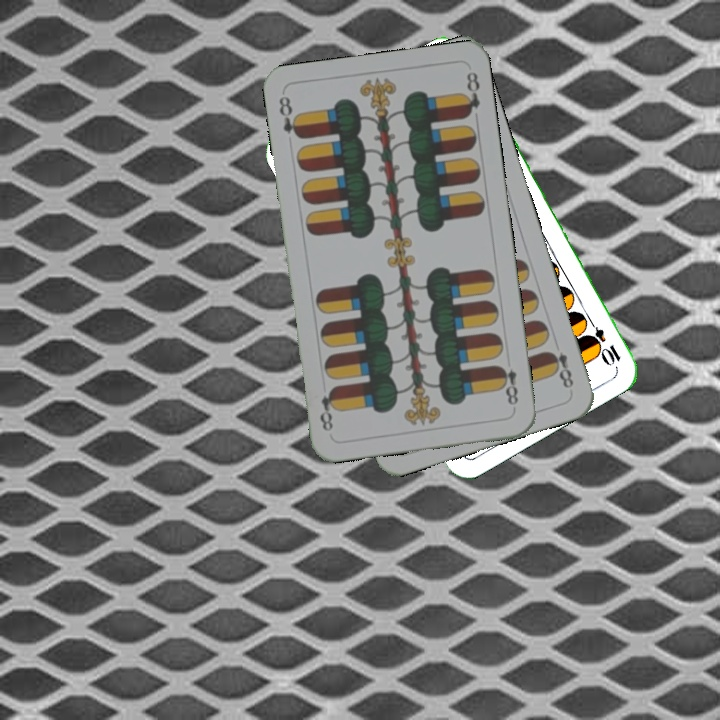E10: (582, 313, 624, 368)
E8: (275, 92, 304, 142), (544, 347, 576, 391), (494, 361, 521, 412)
